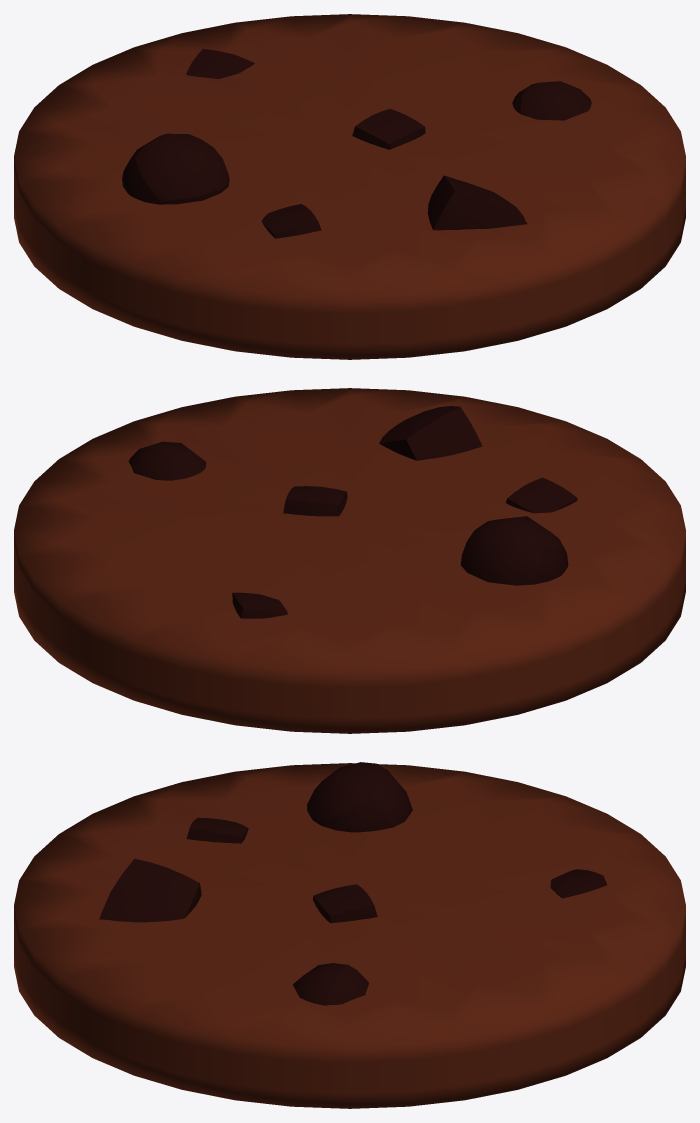
File: cookieU.fbx
3 views of the same model, one above another, from view 1: azimuth 30°, elevation 25°; view 2: azimuth 150°, elevation 25°; view 3: azimuth 270°, elevation 25° (orthographic).
Parts seen in each view (by area): view 1: Cylinder003; view 2: Cylinder003; view 3: Cylinder003.
Boxes of the visible parts, bbox=[...] form: Cylinder003: bbox=[14, 14, 685, 359]; Cylinder003: bbox=[14, 388, 685, 733]; Cylinder003: bbox=[14, 762, 685, 1108].
Size of the model in its own units: 15.46 by 3.37 by 15.46.
